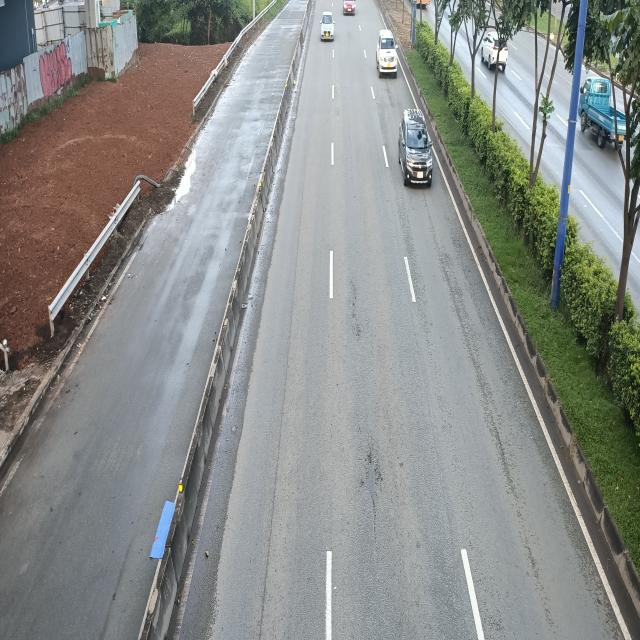car: (399, 108, 433, 185), (377, 29, 399, 76), (320, 10, 334, 42)
